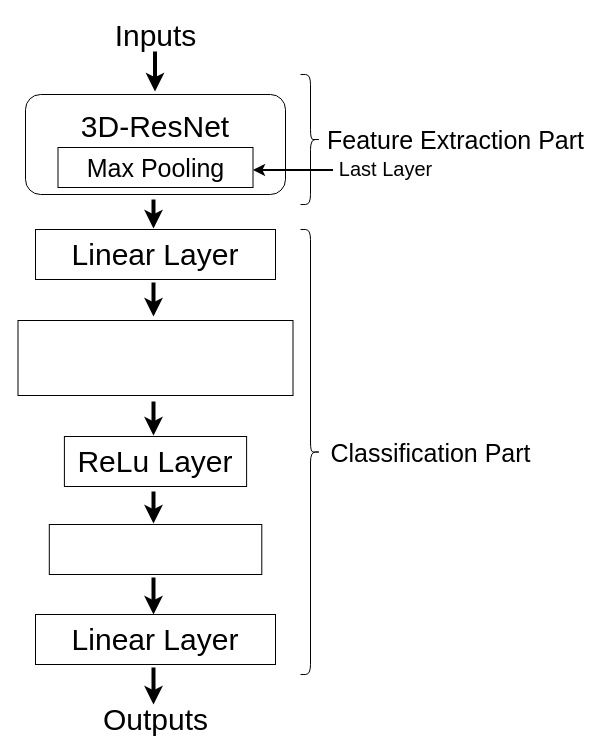
This 607x754 diagram has some shape labels left out. The shapes that lost their labels are listed below. From the top down, each one's box as (x1, y1, x2, y2) in pixels, then its label:
(17, 320, 293, 396): Batch Normalization Layer
(48, 524, 262, 574): Dropout Layer
